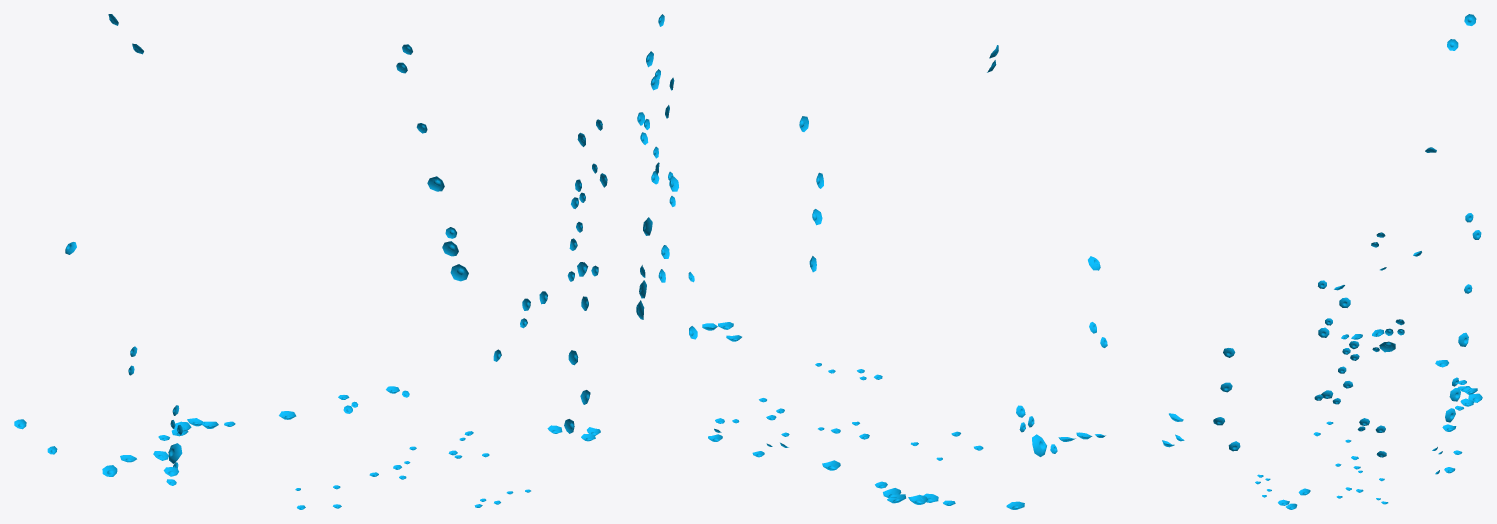
Rendered from Misterius_11_FIX.fbx.
3 views of the same model, side by side, from view 1: azimuth 30°, elevation 25°; view 2: azimuth 150°, elevation 25°; view 3: azimuth 270°, elevation 25° (orthographic). The views are drawn at different scales.
Size of the model in its own units: 180 by 148 by 97.56.
